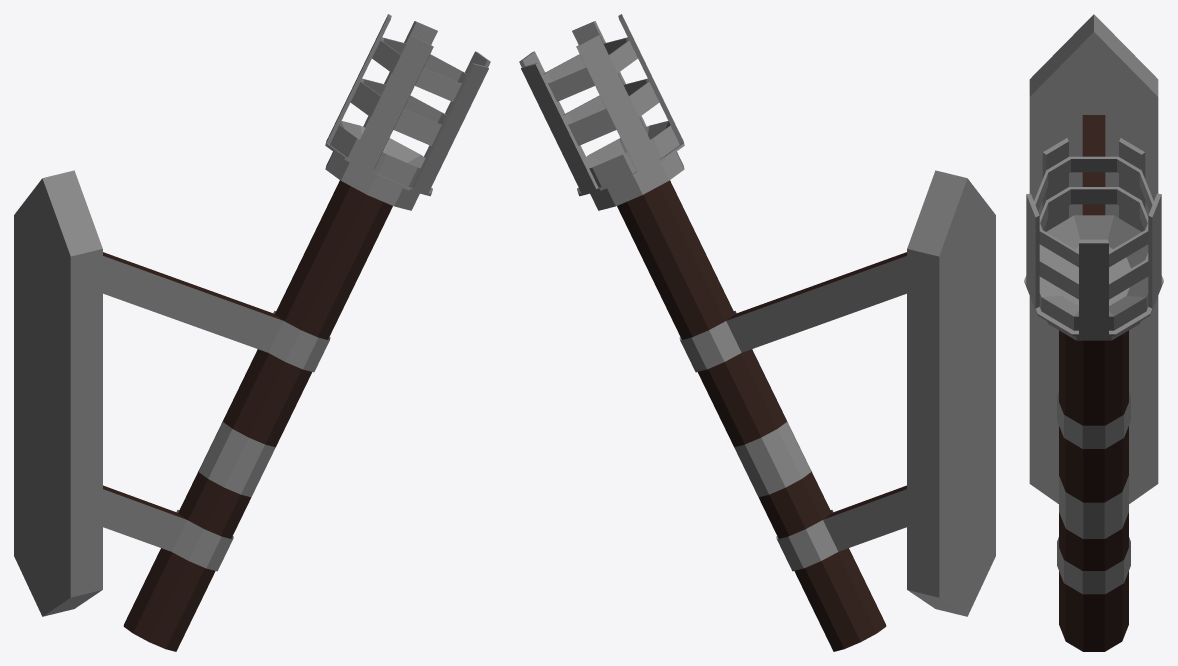
Rendered from tocha2.fbx.
3 renders of one model, left to right at view 1: azimuth 30°, elevation 25°; view 2: azimuth 150°, elevation 25°; view 3: azimuth 270°, elevation 25°, orthographic. The views are drawn at different scales.
Parts seen in each view (by area): view 1: Cylinder.006; view 2: Cylinder.006; view 3: Cylinder.006.
Boxes of the visible parts, bbox=[...] form: Cylinder.006: bbox=[14, 14, 490, 651]; Cylinder.006: bbox=[519, 14, 995, 651]; Cylinder.006: bbox=[1024, 14, 1163, 651].
Bounding box in the file's own units: 118 × 144 × 28.54.
